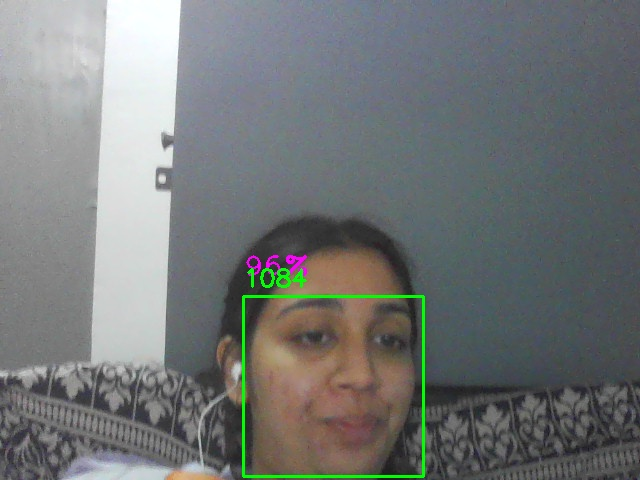real: (243, 296, 424, 477)
